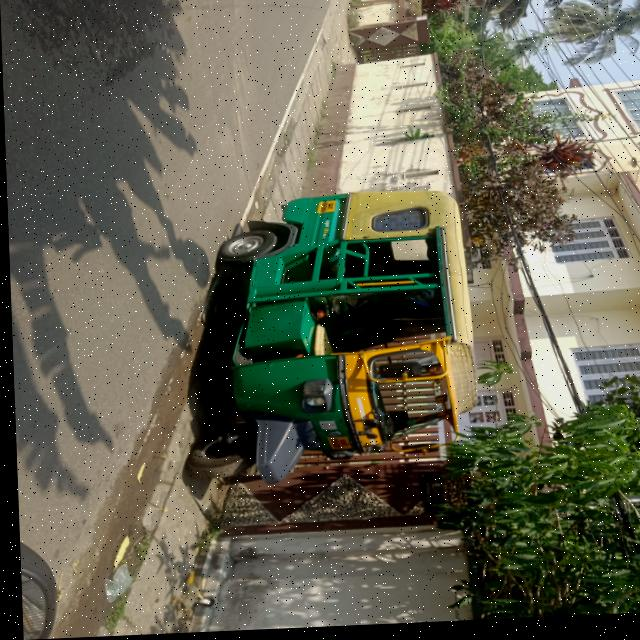plate: (323, 439, 347, 455), (315, 202, 334, 217)
